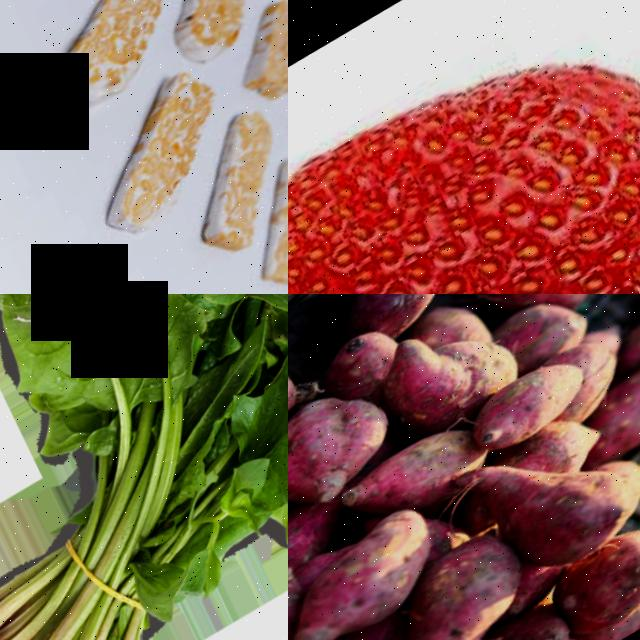spinach: (0, 294, 133, 446), (95, 294, 219, 407)
strawberry: (288, 0, 640, 294)
sweet potato: (288, 504, 461, 640), (491, 447, 640, 598), (288, 376, 410, 531), (339, 422, 492, 545), (464, 351, 602, 470), (392, 549, 546, 640), (546, 524, 640, 640), (329, 294, 450, 352), (478, 294, 590, 329)
tempeh: (75, 102, 220, 256), (30, 0, 170, 128), (154, 0, 263, 78)
